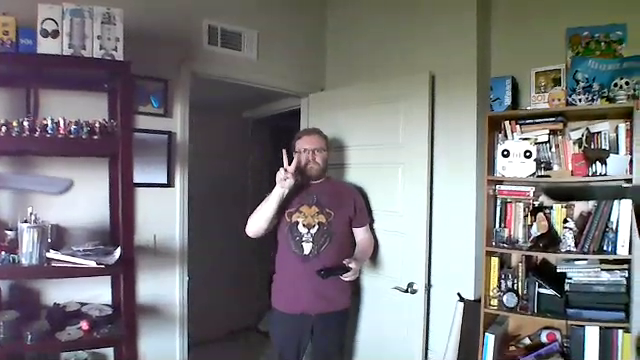peace: (271, 144, 300, 196)
